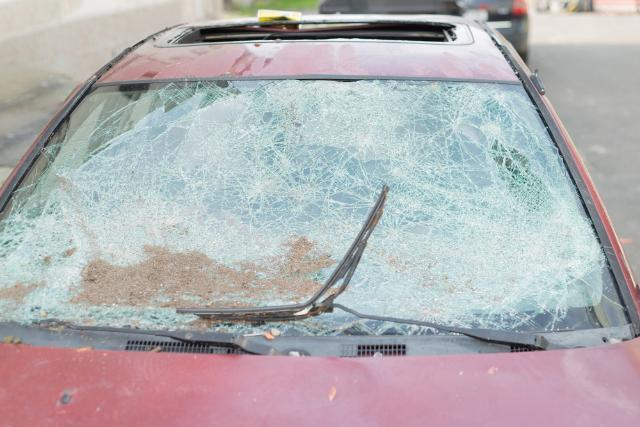glass shatter: (0, 79, 630, 336)
